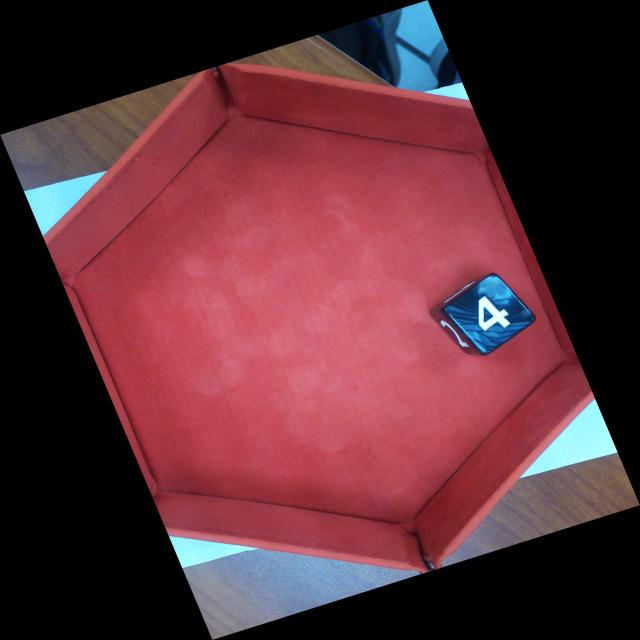dice: (438, 270, 539, 359)
